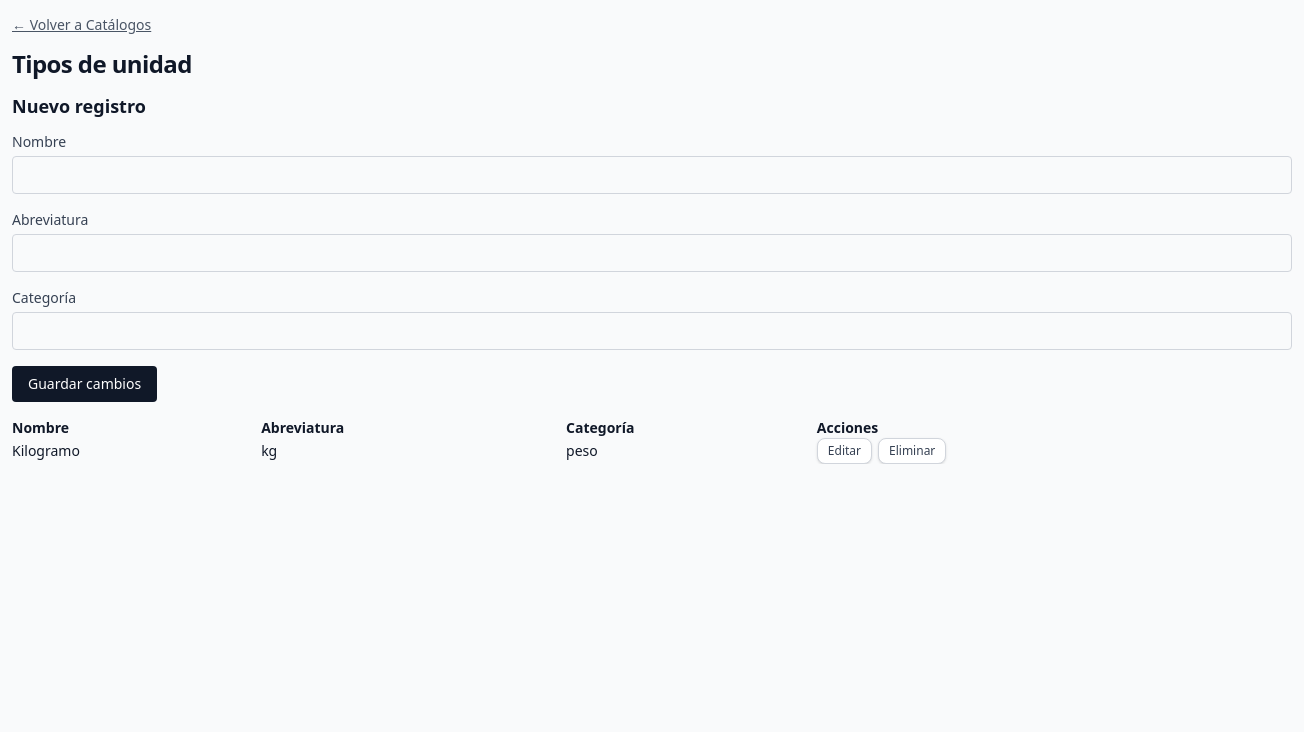
Test: CatalogCrudPage · unit_types (ADM-9.1 CRUD + ADM-9.5 cero-request) › ADM-9.3: duplicado del server (23505) ⇒ mensaje amigable, jamás texto crudo
Expected: the text "Kilogramo" is shown, [12,438,261,464]
Type "Galón" into the field labelled "Nombre" at (652, 175), box [12,156,1292,194]
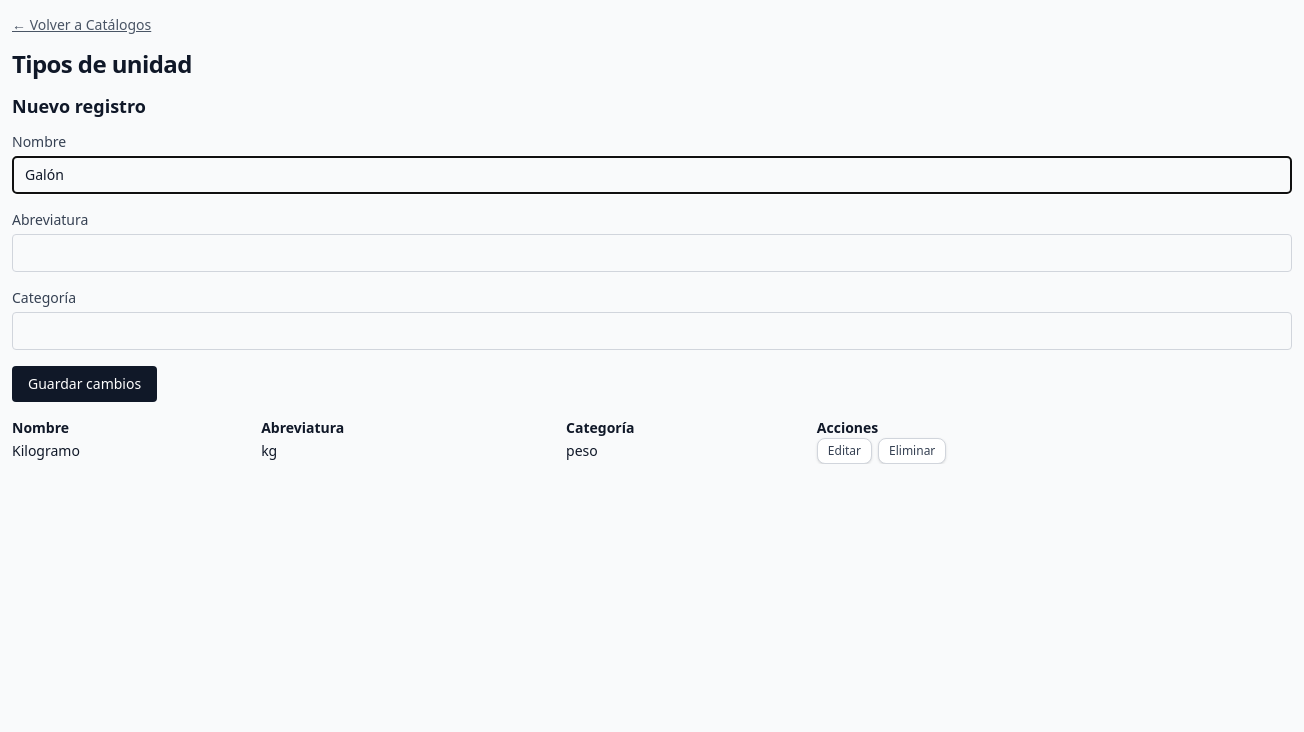
Type "gal" into the field labelled "Abreviatura" at (652, 253), box [12,234,1292,272]
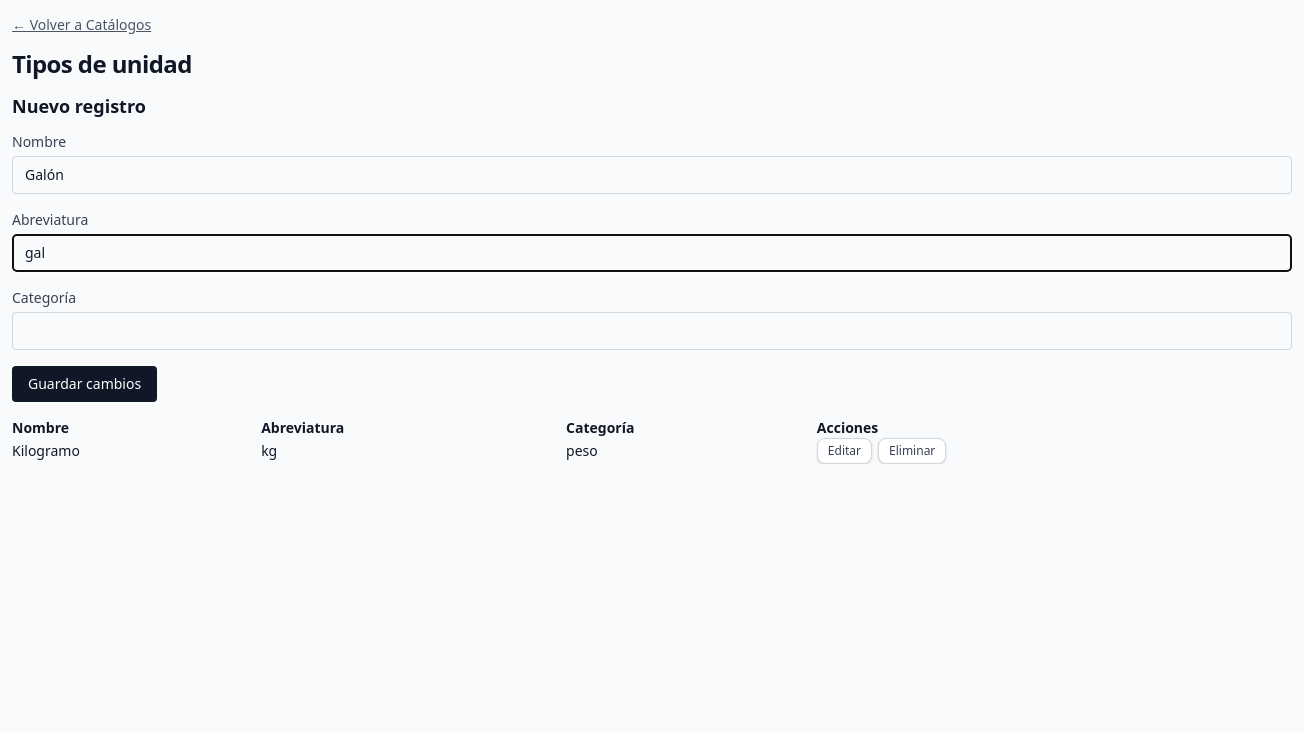
Type "volumen" into the field labelled "Categoría" at (652, 331), box [12,312,1292,350]
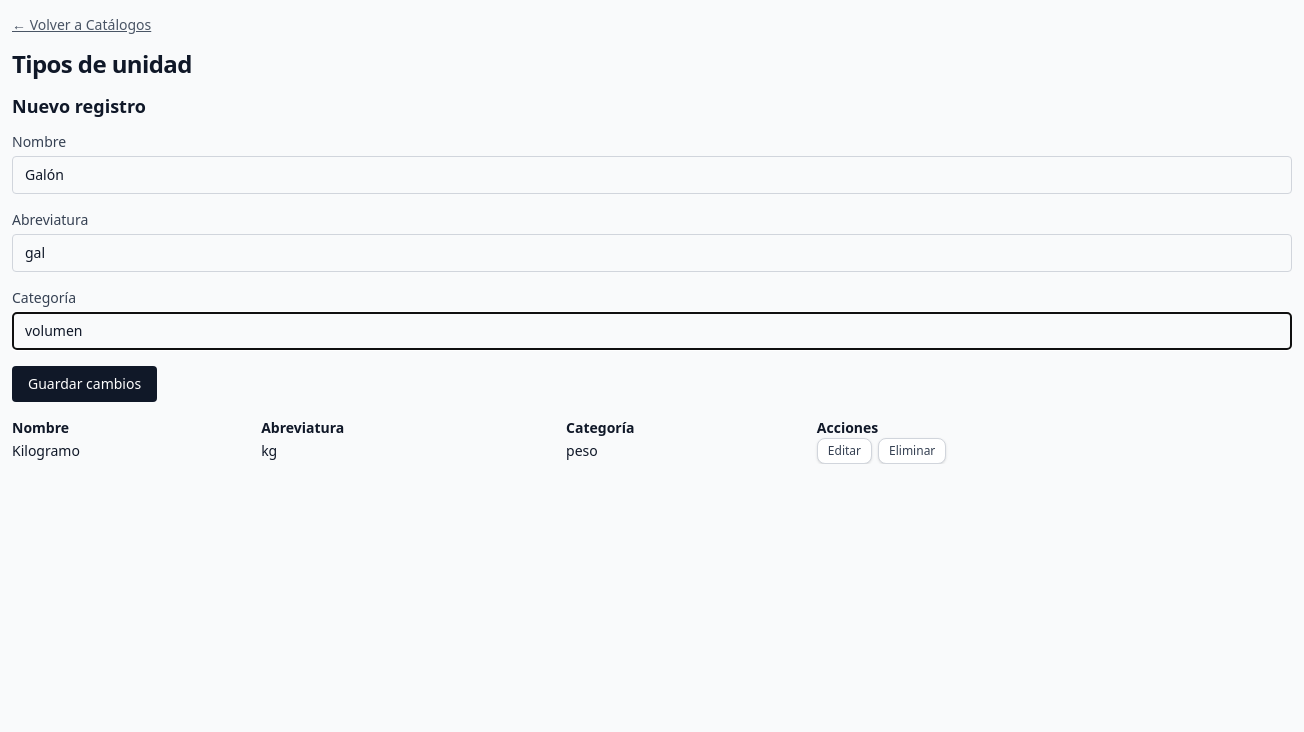
Click the button "Guardar cambios" at (85, 384), box [12,366,157,402]
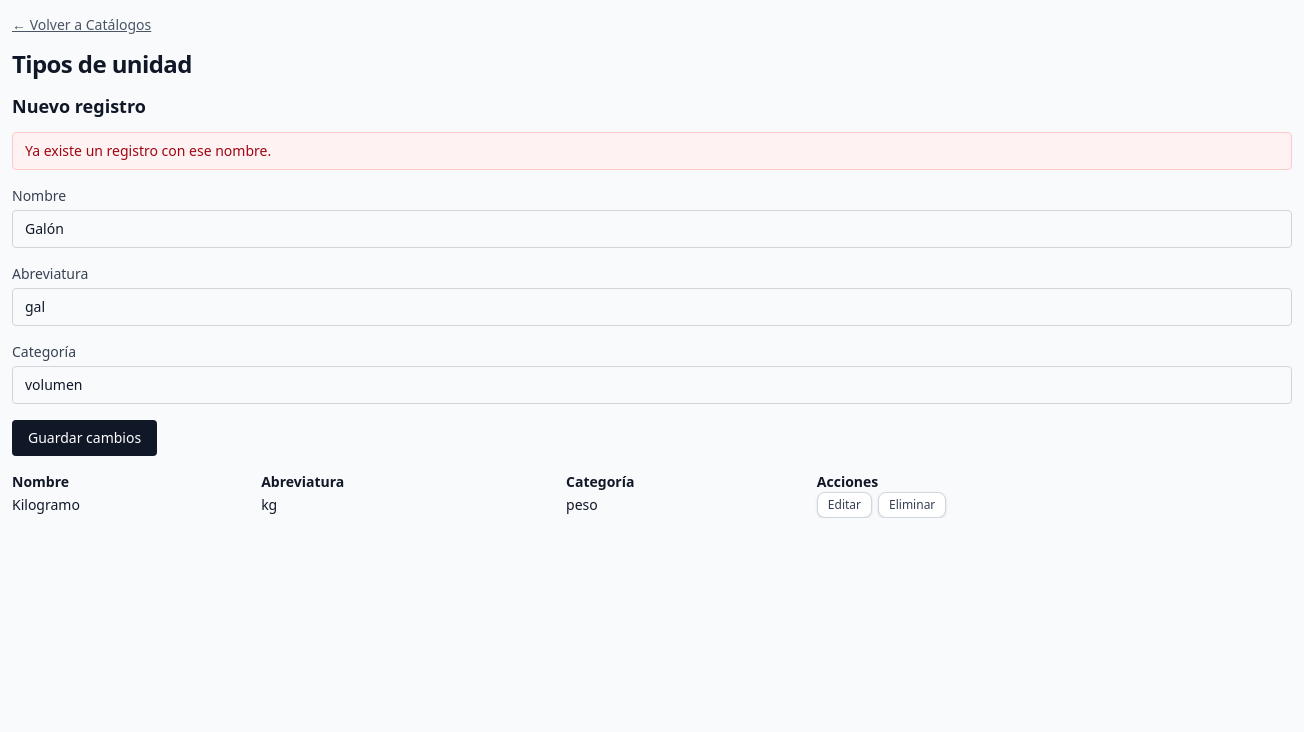
Expected: the message reads "Ya existe un registro con ese nombre.", [25,141,271,160]
